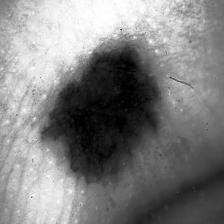Benign Marking or Mole: (45, 51, 164, 176)
